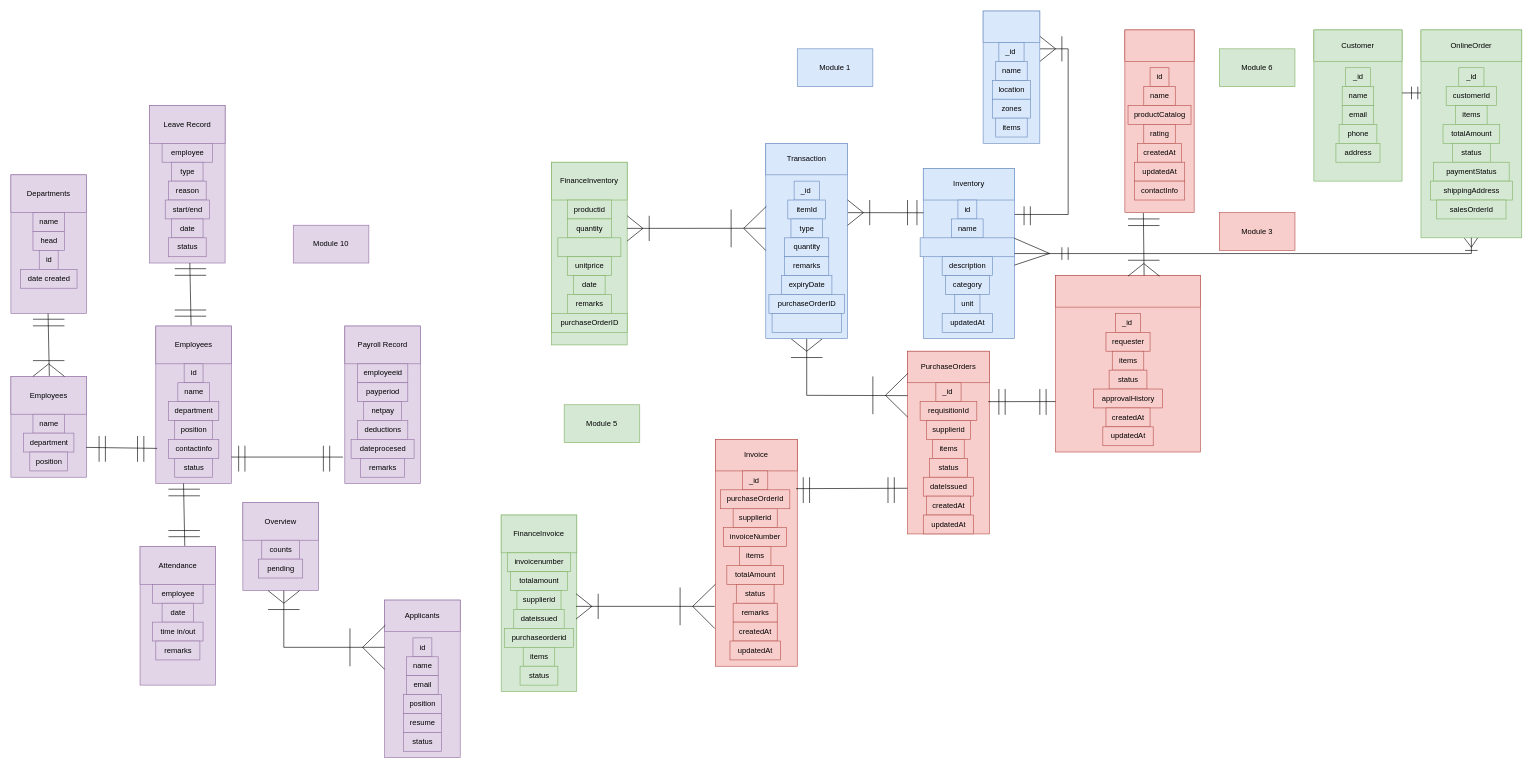
Image size: 1533x769. Some labels were removed from this diagram. The shapes that lost their labels are listed below. From the top down, each one's centre as x and y in pixels, then its label:
At (x=1011, y=26): "Warehouse".
At (x=1159, y=45): "Suppliers".
At (x=589, y=247): "transactiontype".
At (x=967, y=247): "sku (stock keeping unit)".
At (x=1127, y=291): "Requisitions".
At (x=806, y=322): "transactionDate".
